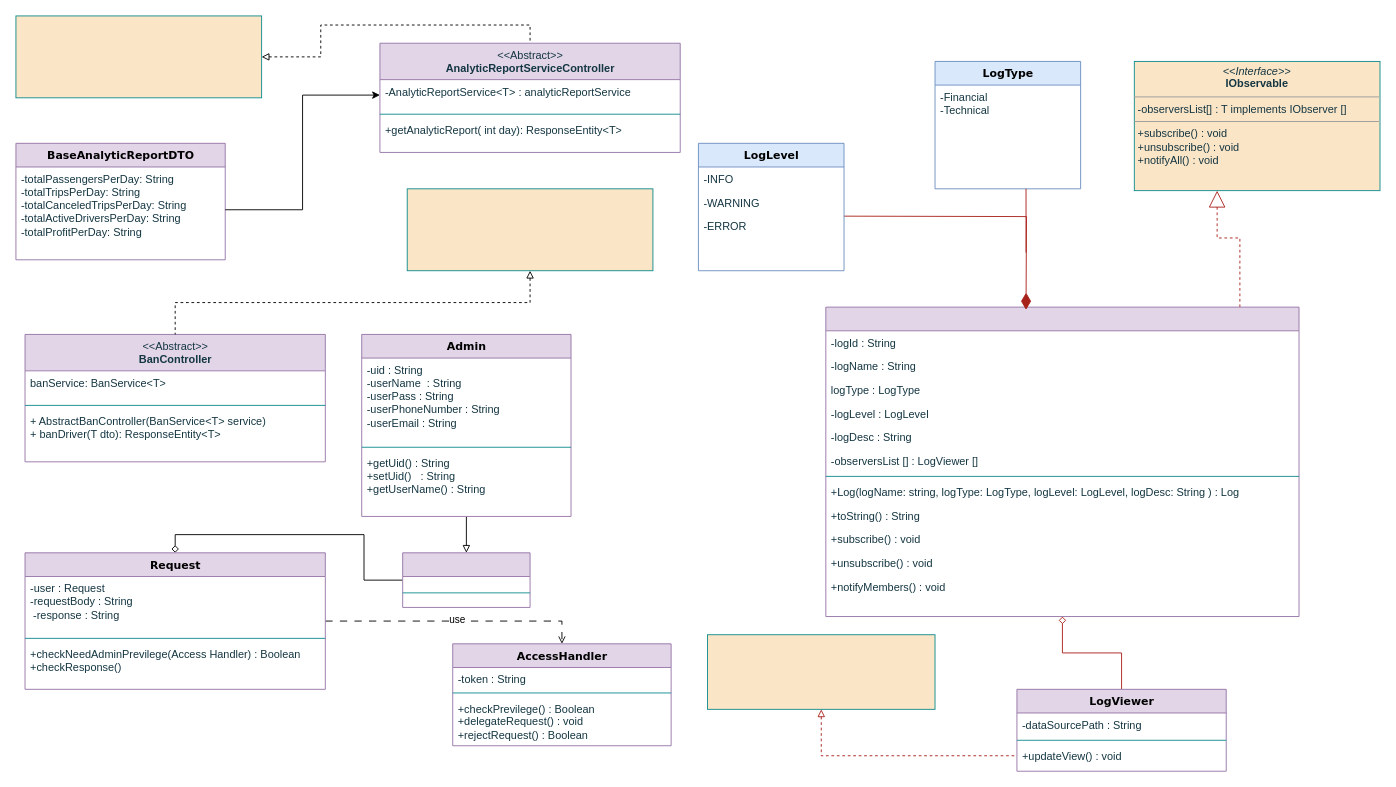
Some shapes in this 1396 by 787 pixel diagram are drawn without their labels. Here are the shapes that lost their labels. From the top down, the centre of each, then its label:
(138,56): <<Interface>> AnalyticReportService +getAnalyticReport(int day)
(529,229): <<Interface>> BanService +banDriver(T dto)
(466,579): User
(821,671): <<Interface>> IObserver +updateView() : void
